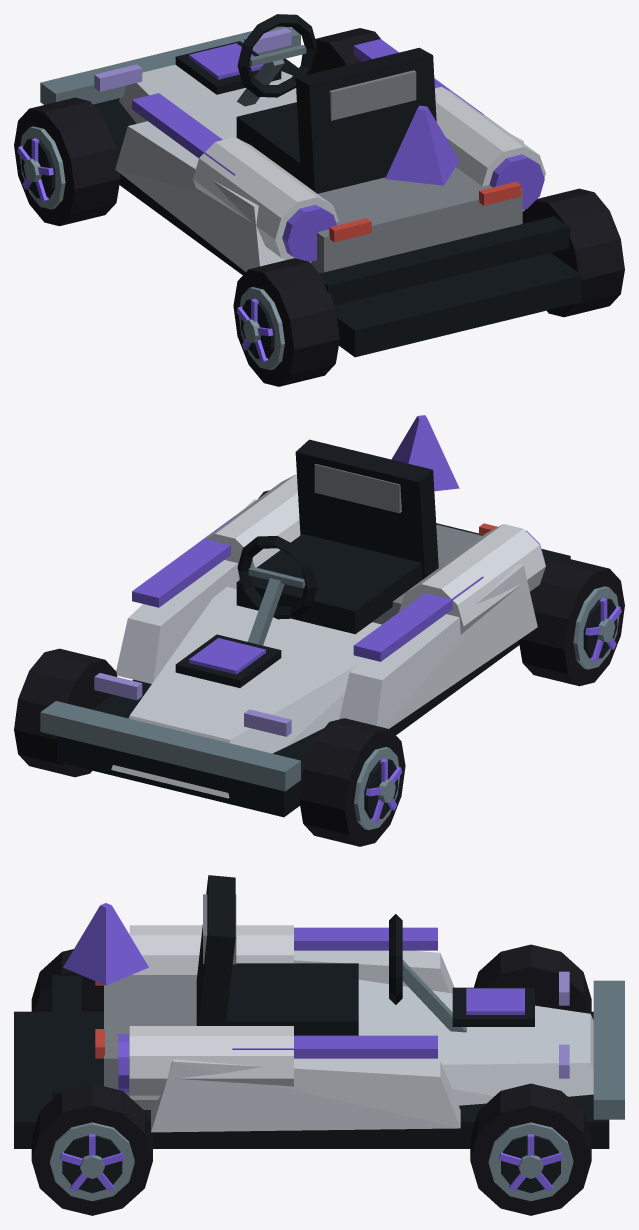
The model's file is kart.glb.
3 renders of one model, top to bottom at view 1: azimuth 30°, elevation 25°; view 2: azimuth 150°, elevation 25°; view 3: azimuth 270°, elevation 25°, orthographic.
Visible parts, largest first — view 1: chassis, wheel-rear-left, wheel-front-left, wheel-rear-right, wheel-front-right; view 2: chassis, wheel-front-left, wheel-rear-left, wheel-front-right; view 3: chassis, wheel-front-right, wheel-rear-right, wheel-front-left, wheel-rear-left.
Boxes of the visible parts, box(x1,y1,x2,y2) form: chassis: box(40, 14, 581, 357); wheel-rear-left: box(233, 258, 339, 386); wheel-front-left: box(14, 97, 120, 226); wheel-rear-right: box(522, 188, 624, 317); wheel-front-right: box(300, 28, 380, 74); chassis: box(40, 415, 570, 817); wheel-front-left: box(299, 718, 405, 846); wheel-rear-left: box(519, 557, 624, 686); wheel-front-right: box(14, 648, 117, 777); chassis: box(14, 875, 624, 1148); wheel-front-right: box(470, 1083, 591, 1215); wheel-rear-right: box(31, 1083, 152, 1215); wheel-front-left: box(474, 944, 591, 1011); wheel-rear-left: box(31, 949, 103, 1011).
Bounding box in the file's own units: 2.12 × 1.3 × 3.12.
